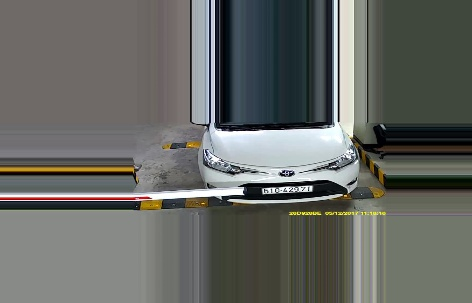plate: (260, 183, 313, 197)
